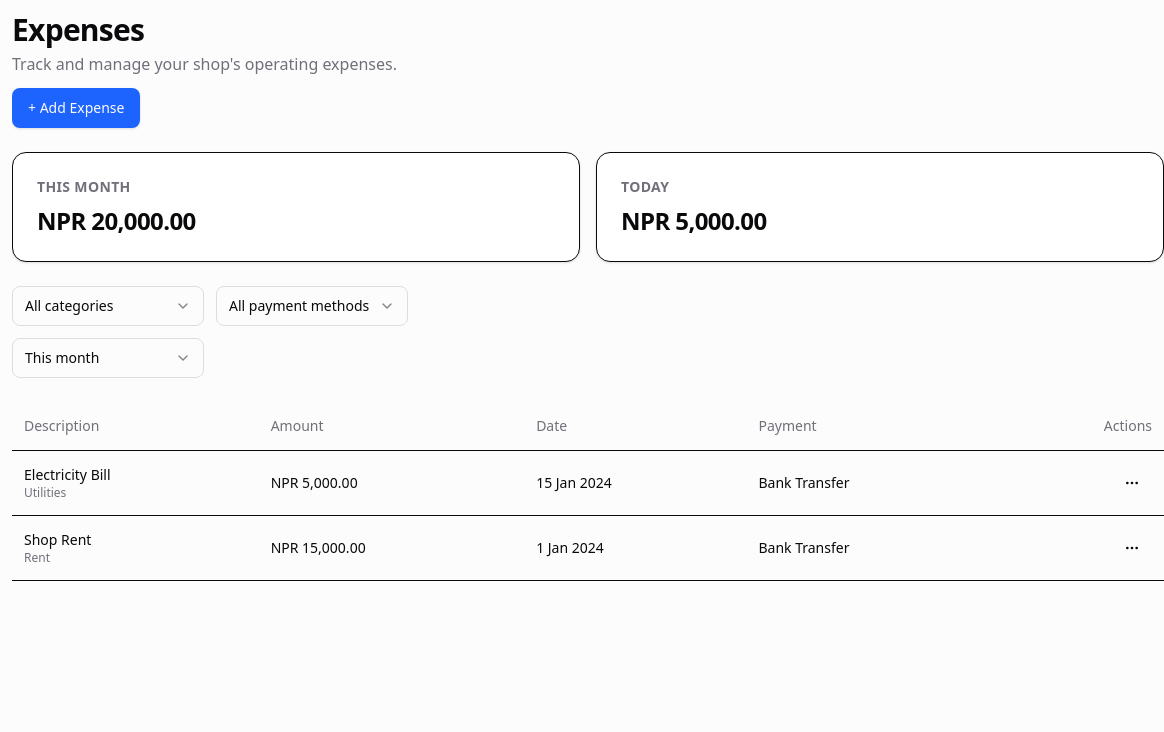
ExpensesPage › Category filter options are present
Expected: the text "Electricity Bill" is shown, [24,464,111,484]
Step 1. Click the dropdown named "Category" → (108, 306), box [12,286,204,326]
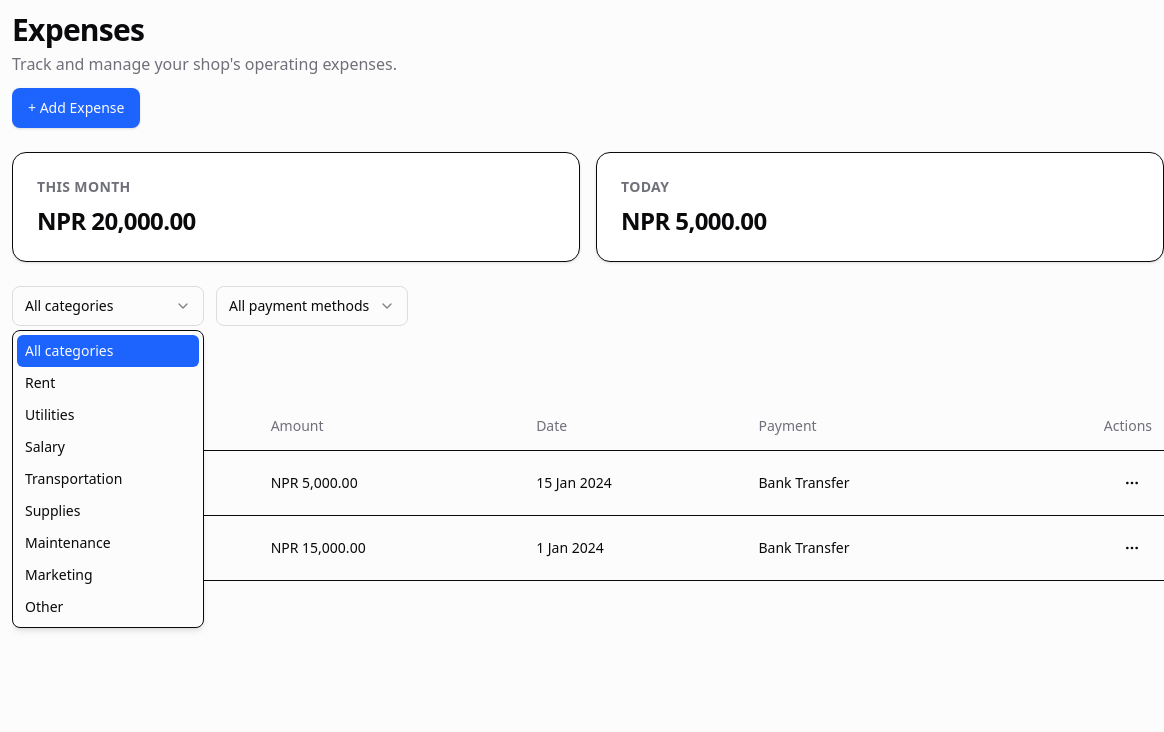
Expected: the option "Rent" is shown, [17,367,199,399]
Expected: the option "Utilities" is shown, [17,399,199,431]
